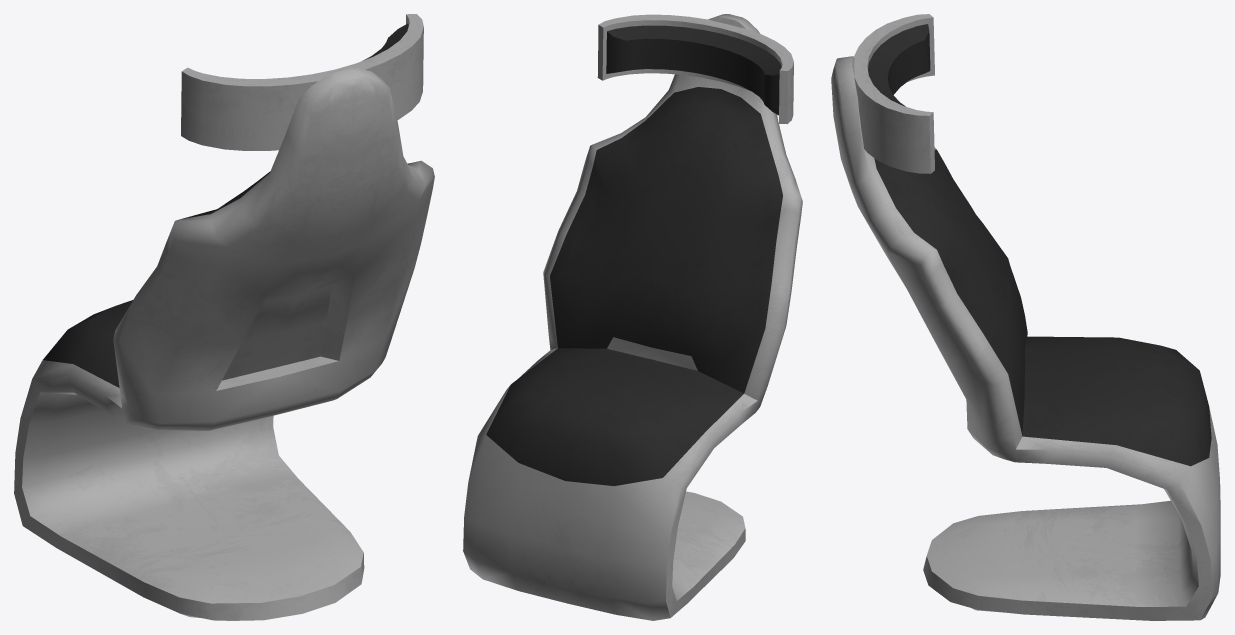
File: prop_chair.glb
3 renders of one model, left to right at view 1: azimuth 30°, elevation 25°; view 2: azimuth 150°, elevation 25°; view 3: azimuth 270°, elevation 25°, orthographic. The views are drawn at different scales.
Visible parts, largest first — view 1: Prop_Chair; view 2: Prop_Chair; view 3: Prop_Chair.
Part boxes in pixels (x1,y1,x2,y2): Prop_Chair: (14, 14, 434, 620); Prop_Chair: (463, 14, 802, 620); Prop_Chair: (831, 14, 1220, 620).
Size of the model in its own units: 0.8807 by 1.64 by 1.12.
2 materials, 2 textured.
